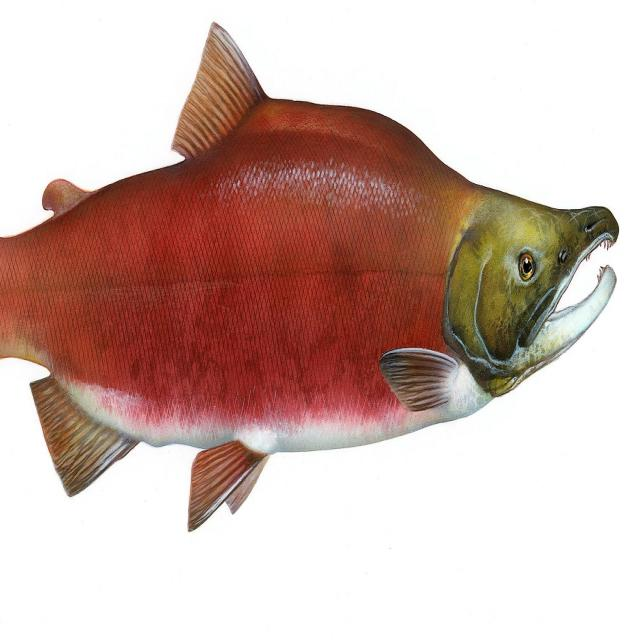salmon: (1, 18, 626, 530)
